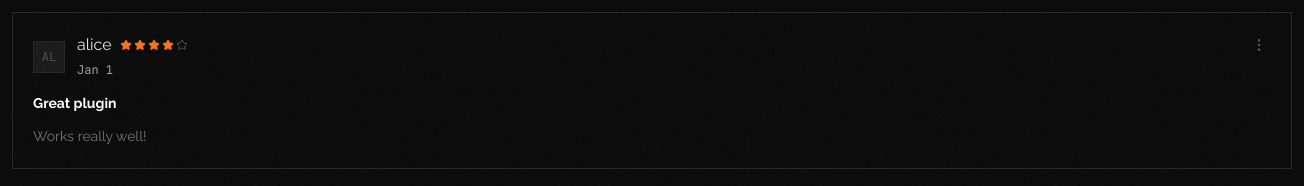
Test: ReviewCard › shows action menu for own review with edit and delete
This screenshot has width=1304, height=186.
Click the button named "Review actions" at {"x": 1259, "y": 45}, box [1247,33,1271,57]
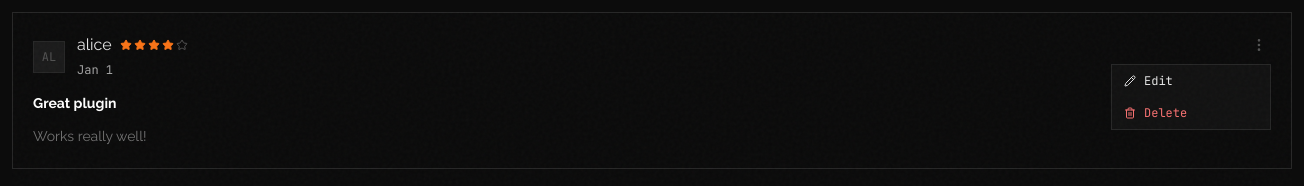
Now the button "Edit" is shown, box [1112,65,1270,97]
Now the button "Delete" is shown, box [1112,97,1270,129]
